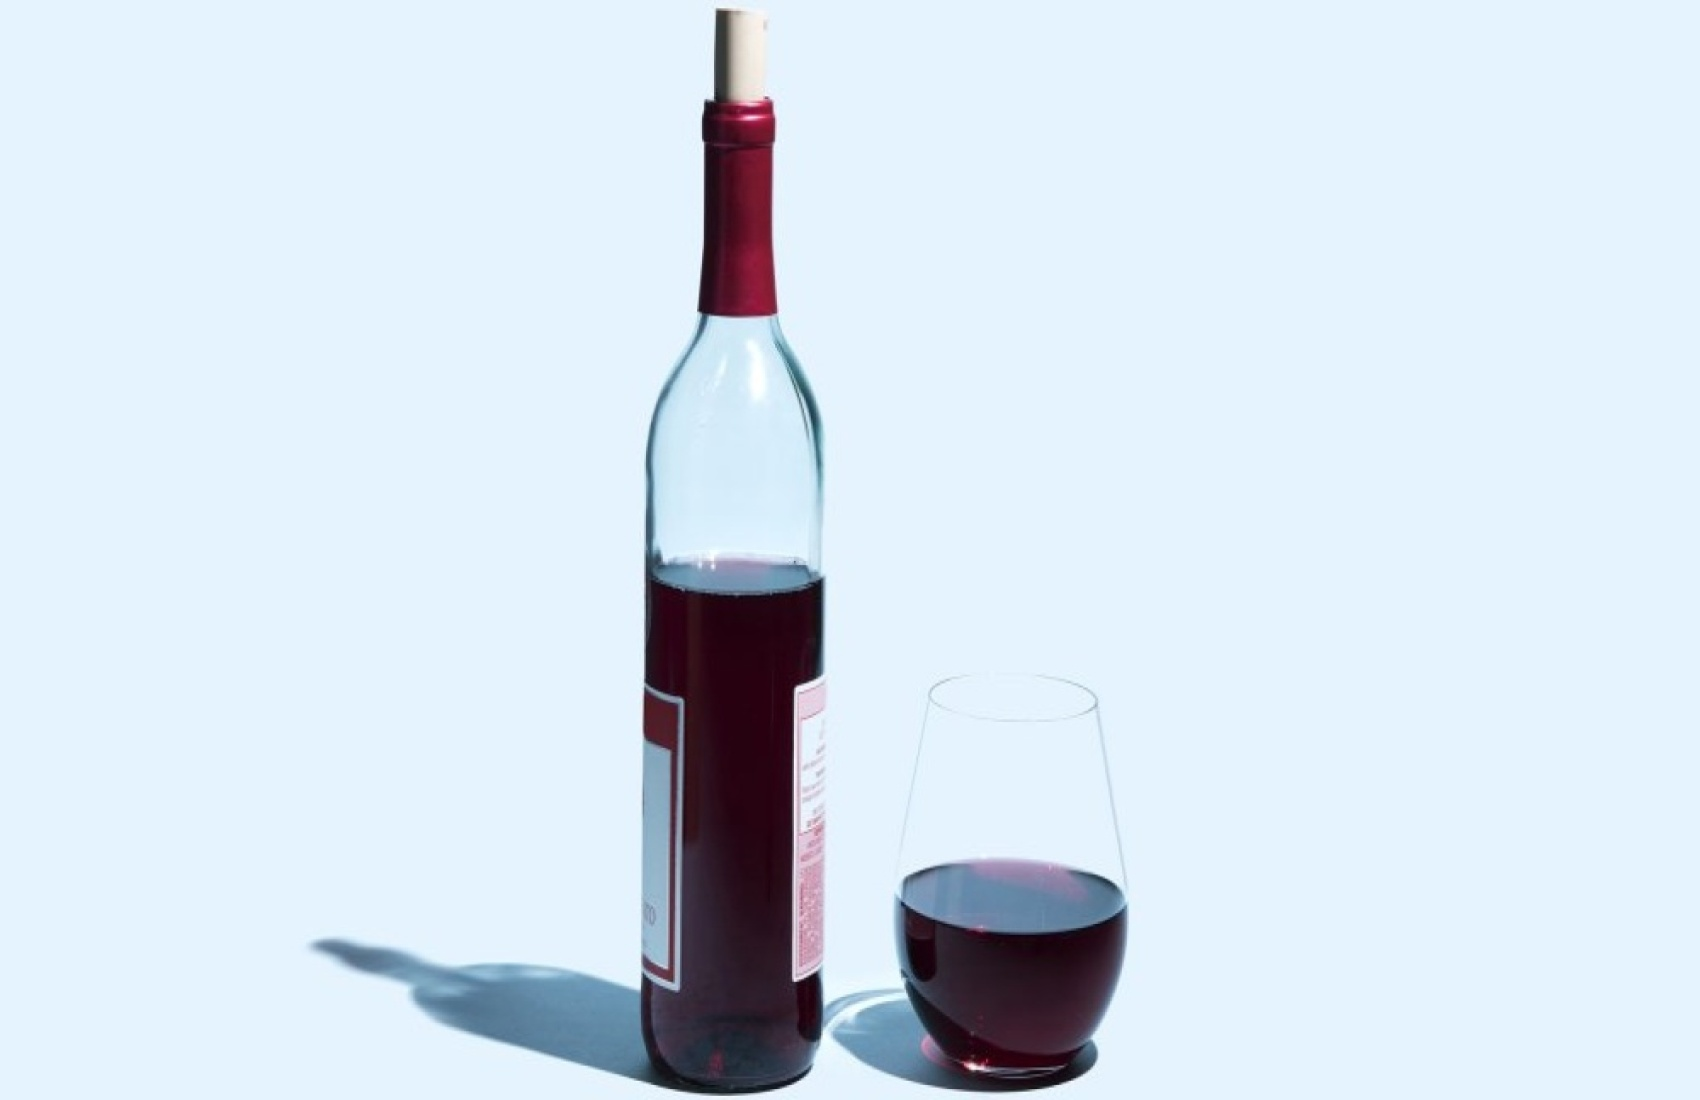wine: (648, 45, 815, 1081)
